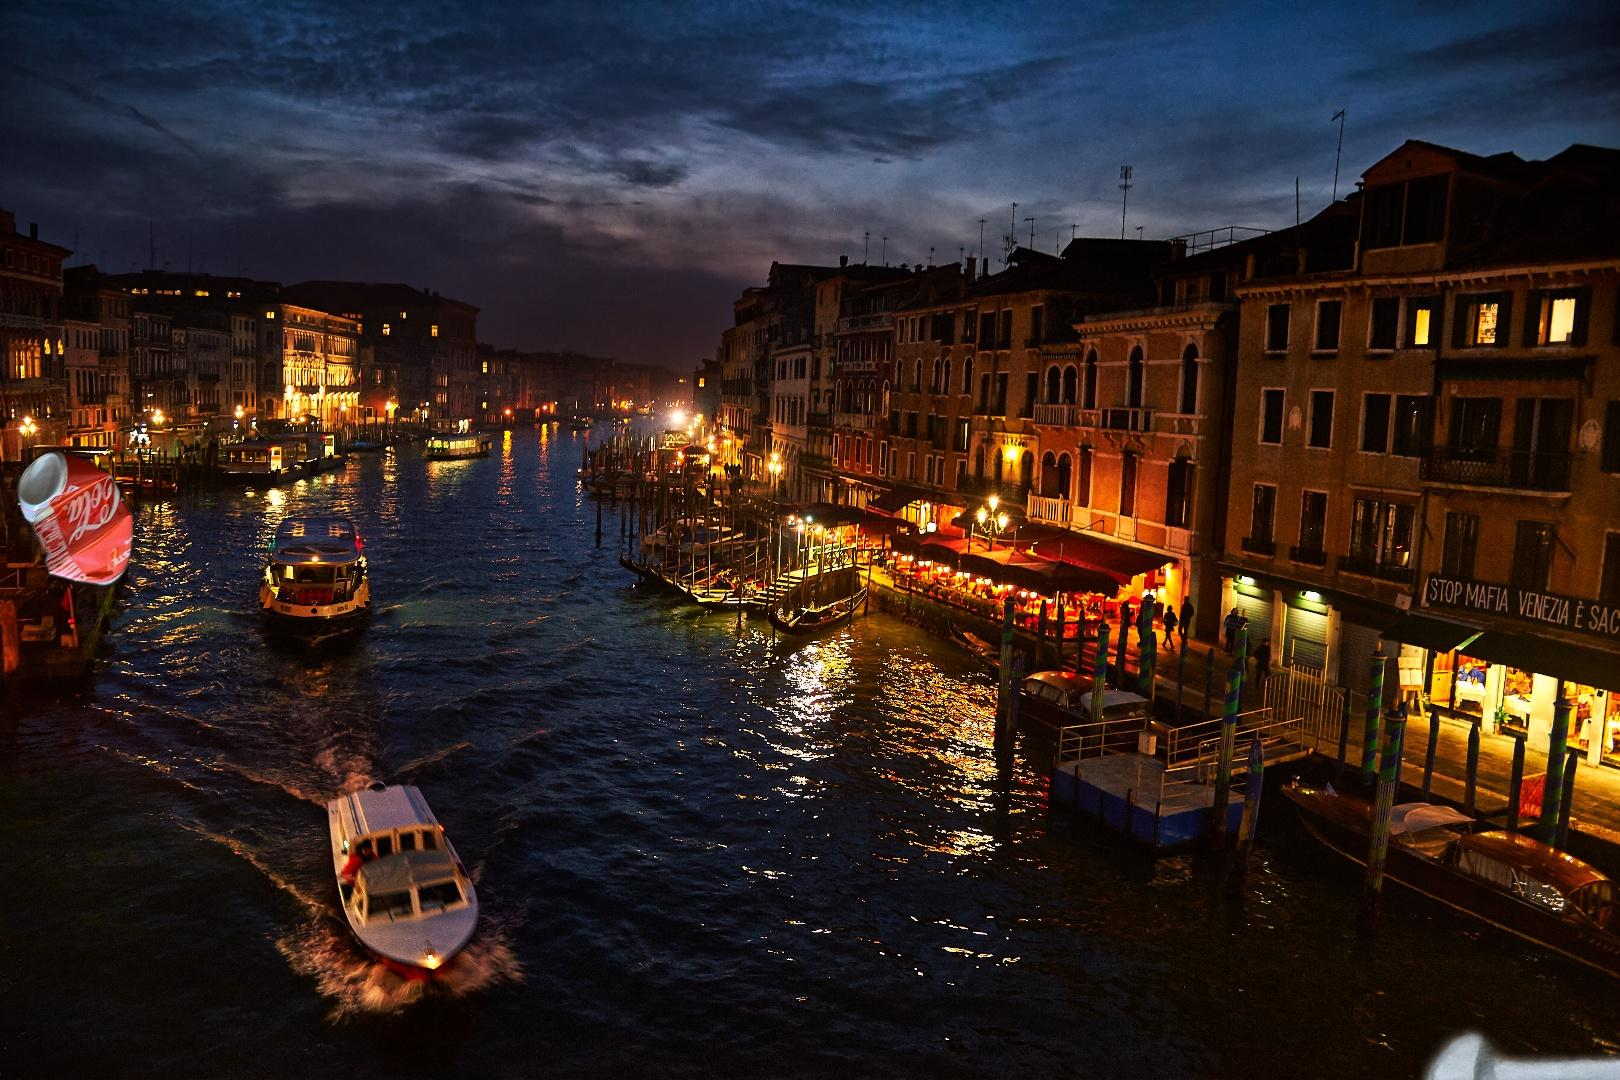metal-cans: (11, 445, 137, 592)
trashbox-cardboard: (1262, 957, 1620, 1080)
